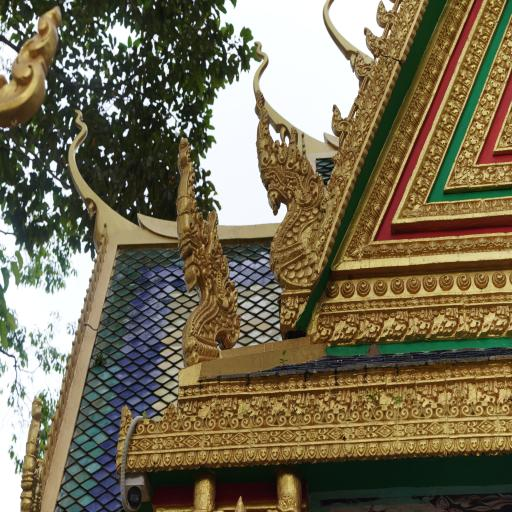la: (0, 0, 69, 140), (342, 50, 379, 95)
lua: (249, 38, 336, 168), (314, 0, 370, 79), (361, 20, 383, 62), (327, 100, 350, 135), (372, 0, 388, 32)
ran: (242, 84, 332, 310), (170, 130, 249, 384)
